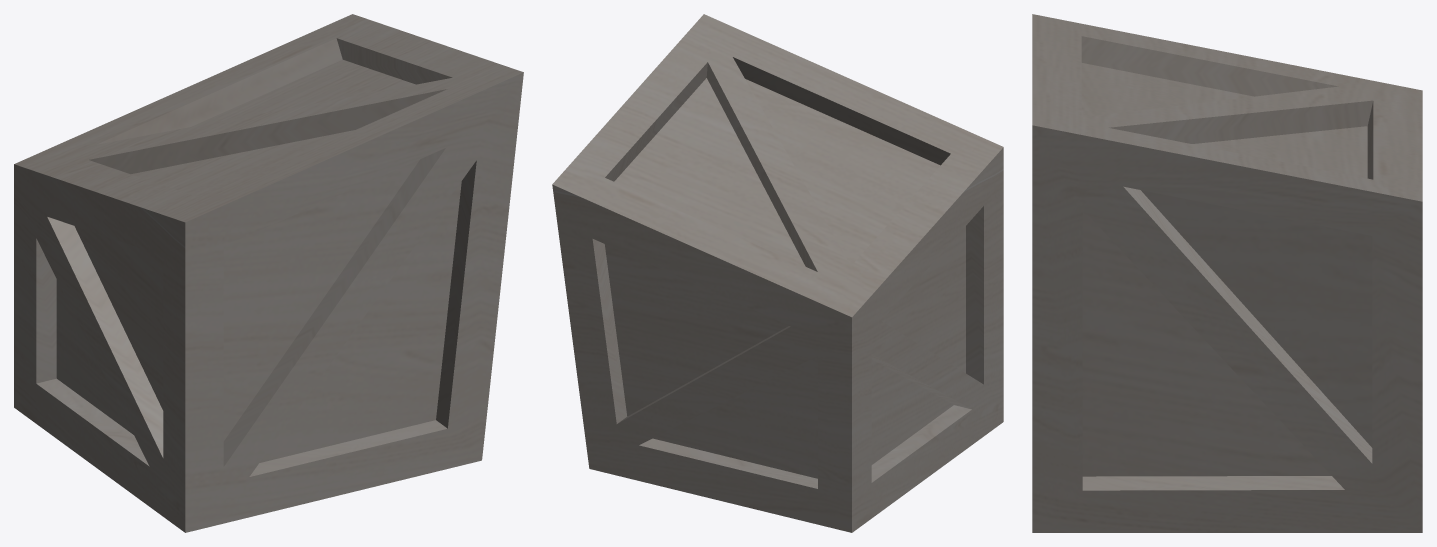
The model's file is Crate4.fbx.
The picture shows the model from 3 angles, left to right: view 1: azimuth 30°, elevation 25°; view 2: azimuth 150°, elevation 25°; view 3: azimuth 270°, elevation 25°; orthographic projection. The views are drawn at different scales.
Visible parts, largest first — view 1: pCube38; view 2: pCube38; view 3: pCube38.
Boxes of the visible parts, left/top/right/bottom form: pCube38: left=14, top=14, right=523, bottom=532; pCube38: left=552, top=14, right=1003, bottom=532; pCube38: left=1032, top=14, right=1422, bottom=532.
Size of the model in its own units: 87.3 by 93.15 by 76.5.
